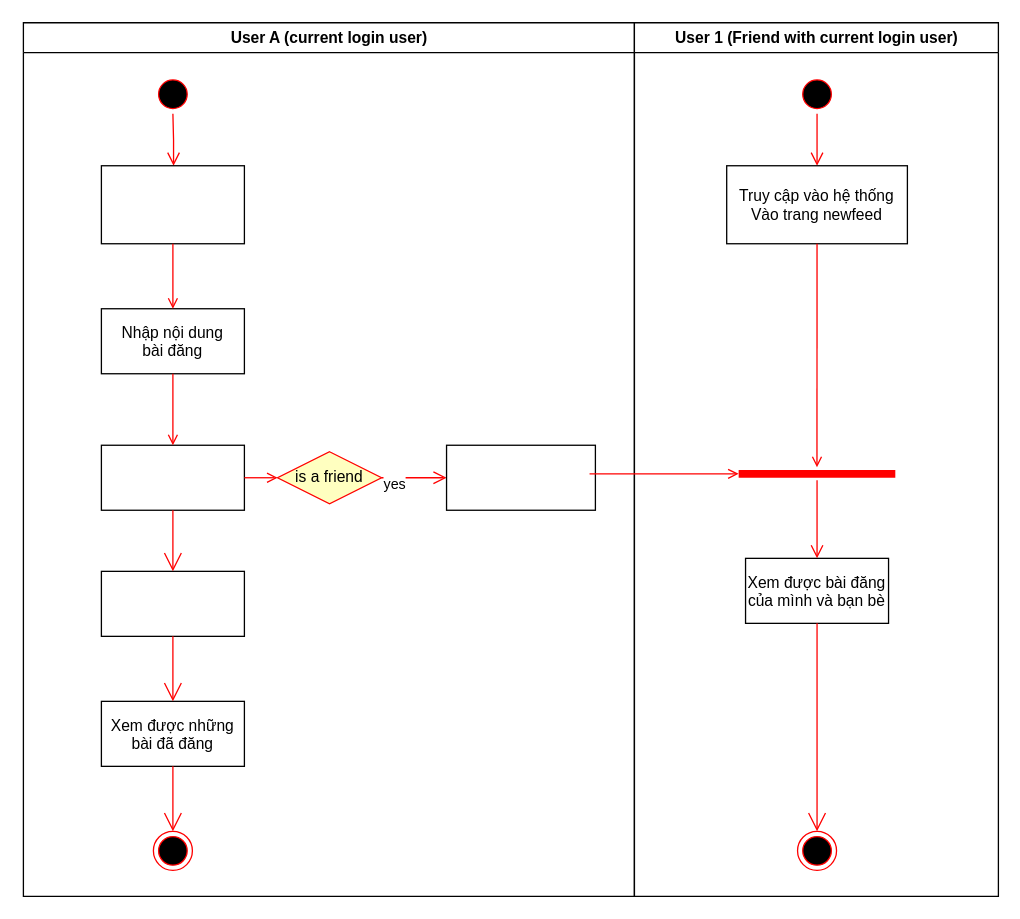
The diagram is 1020 pixels wide and 919 high, and some of its shapes have lost their labels. Each missing label, with the centre of its shape:
Login vào hệ thống Chọn chức năng đăng bài: point (172, 204)
Thêm bài viết vào newfeed của bạn bè: point (520, 477)
Thực hiện đăng bài: point (172, 477)
Truy cập vào profile: point (172, 603)
